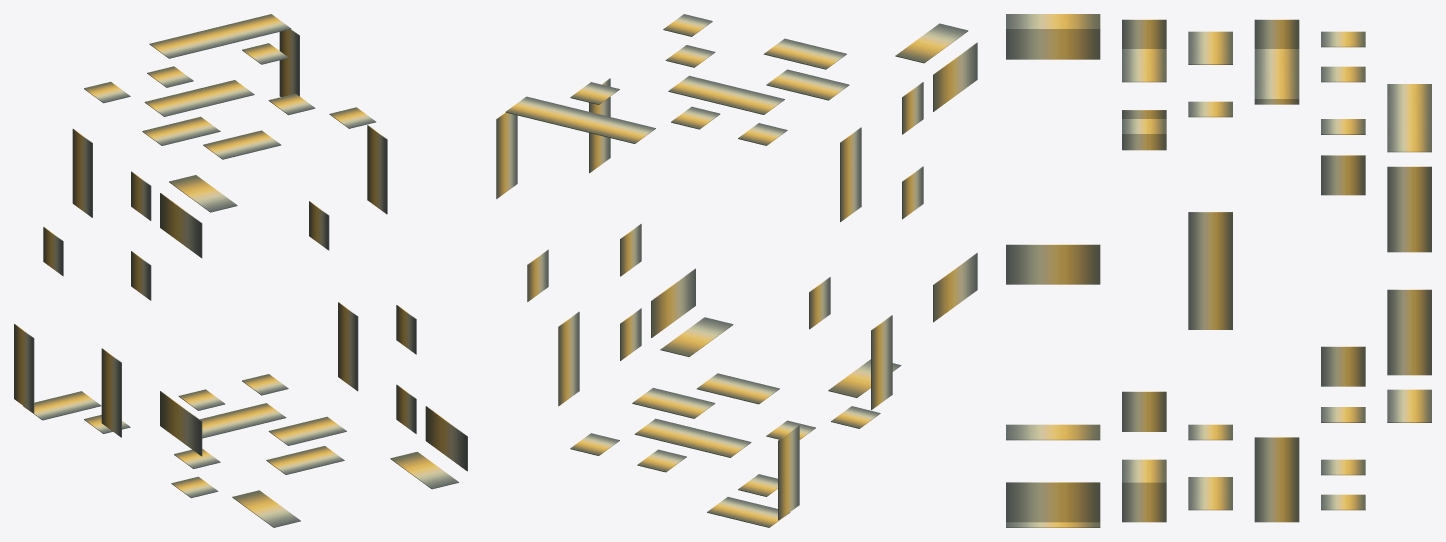
Rendered from Window_Lights_13D_solid.glb.
3 views of the same model, side by side, from view 1: azimuth 30°, elevation 25°; view 2: azimuth 150°, elevation 25°; view 3: azimuth 270°, elevation 25° (orthographic). The views are drawn at different scales.
Parts seen in each view (by area): view 1: Window_Lights_13D2; view 2: Window_Lights_13D2; view 3: Window_Lights_13D2.
Part boxes in pixels (x1,y1,x2,y2): Window_Lights_13D2: (14,14,467,527); Window_Lights_13D2: (496,14,977,527); Window_Lights_13D2: (1006,14,1431,527).
Size of the model in its own units: 21.05 by 25.05 by 25.7.
1 material, 1 textured.
